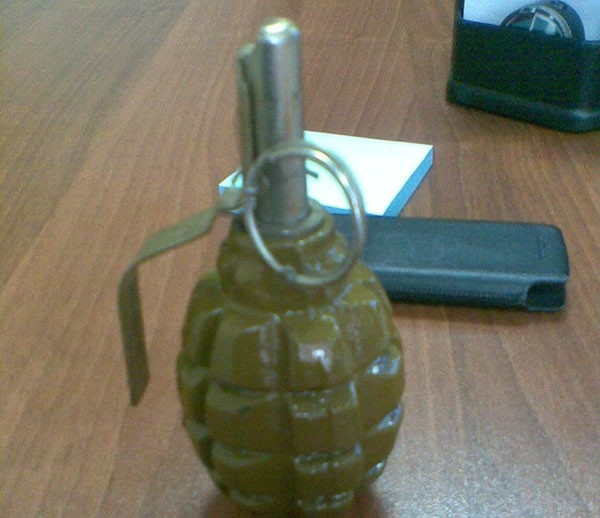F1: (116, 16, 405, 518)
